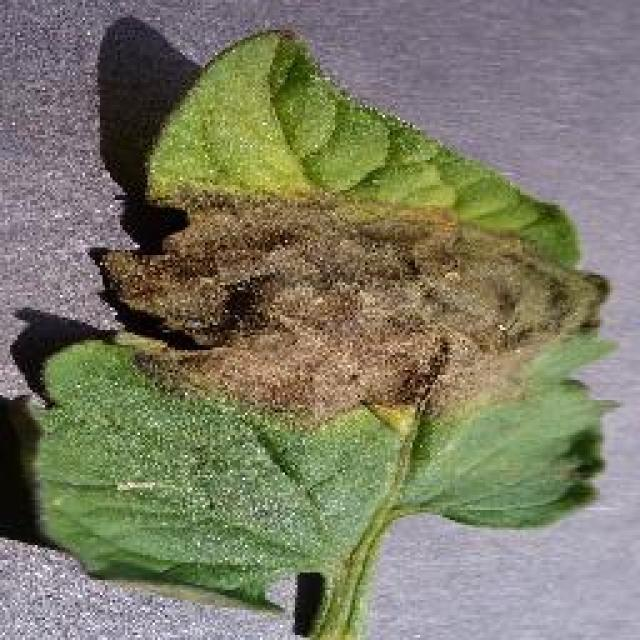Tomato late blight leaf: (16, 19, 618, 624)
